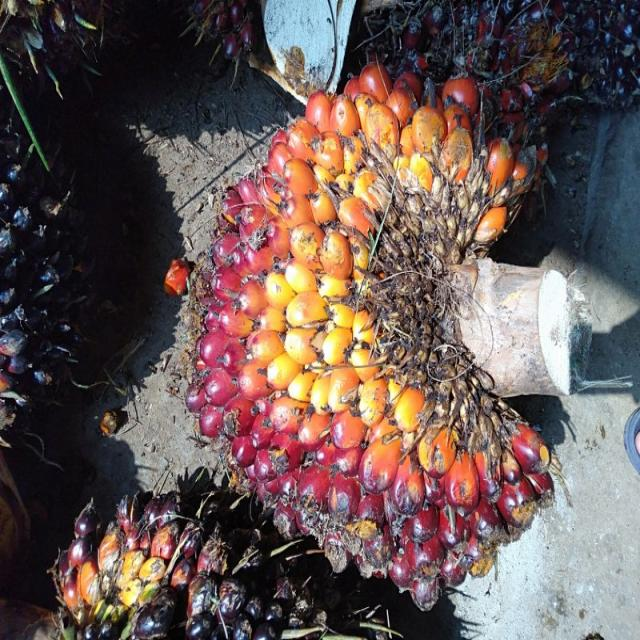fraksi 1: (160, 26, 573, 611)
